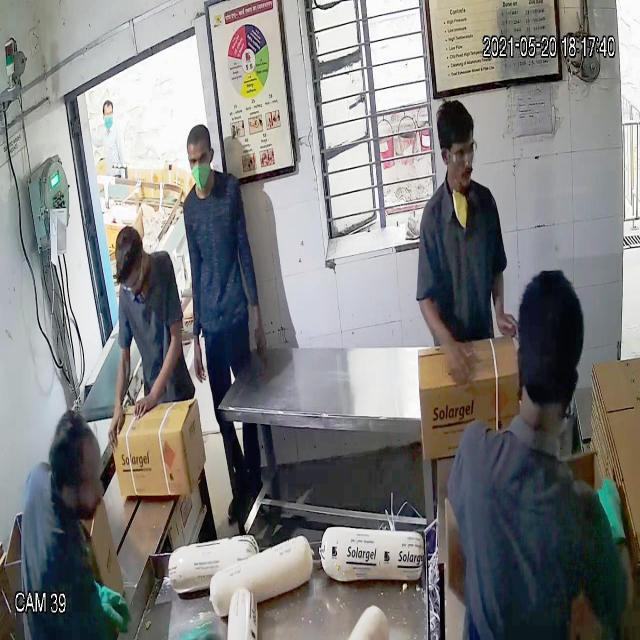glasses: (434, 134, 480, 166)
no-glass: (185, 147, 213, 169)
